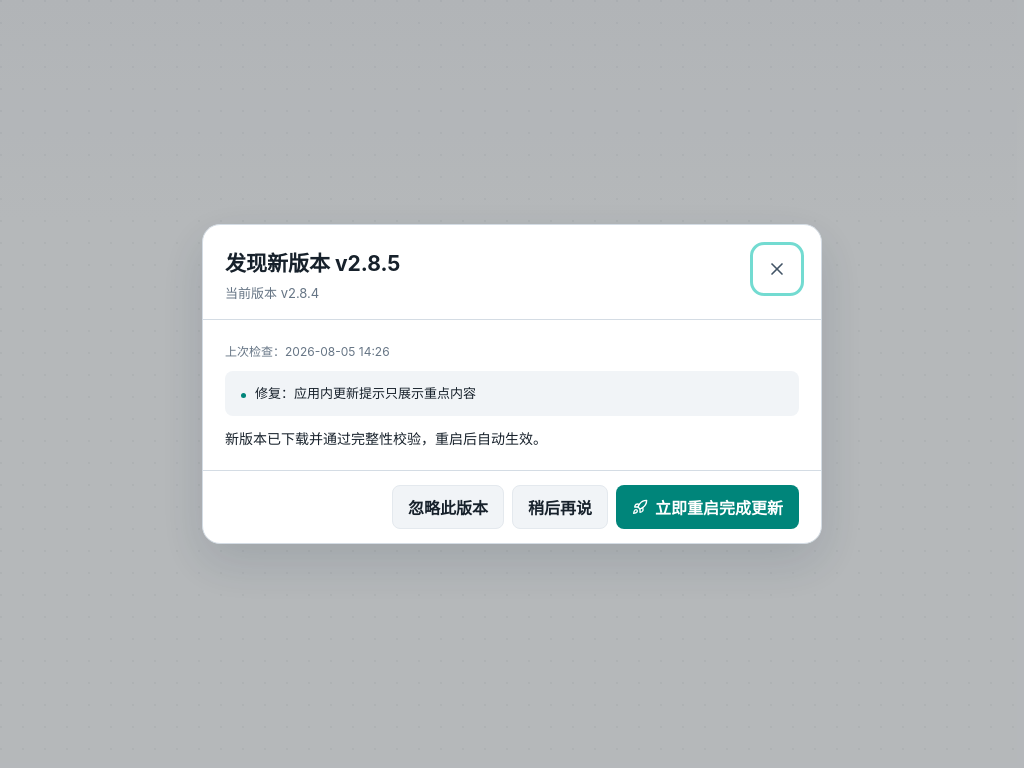
Test case: UpdateDialog failure messages › shows backend user_message when the restart API fails
This screenshot has width=1024, height=768.
Step 1. Click the button with test id "update-restart" → (708, 507), box [616, 485, 799, 529]
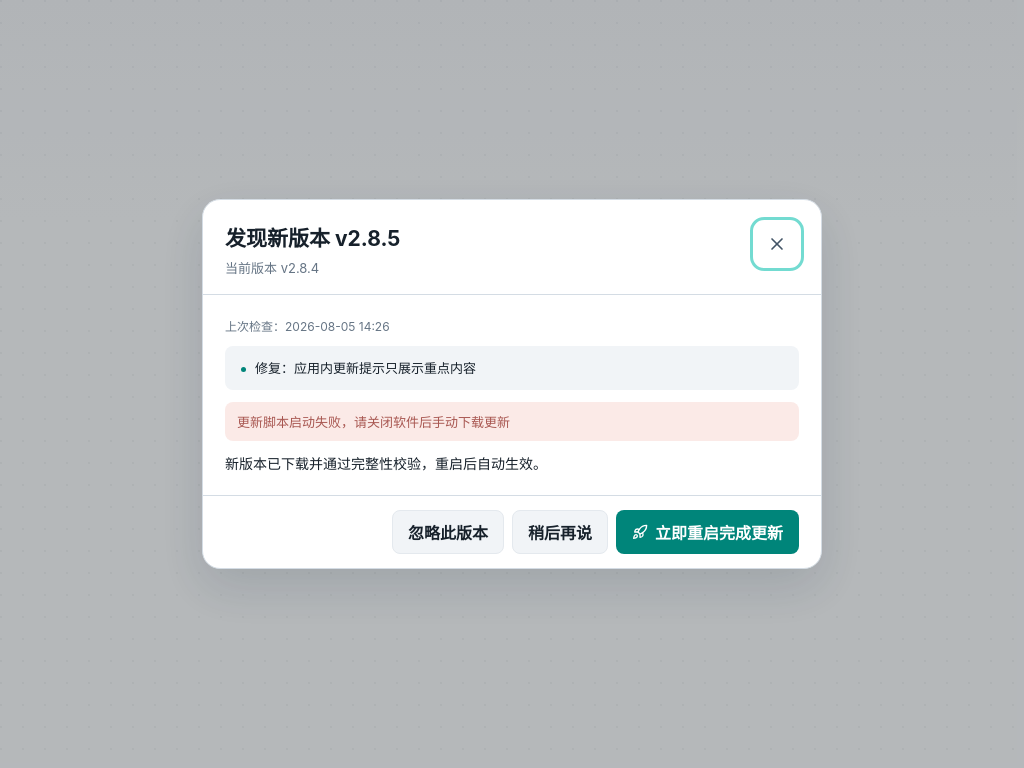
Check: the message with test id "update-error" shows "更新脚本启动失败", box [237, 414, 510, 430]
